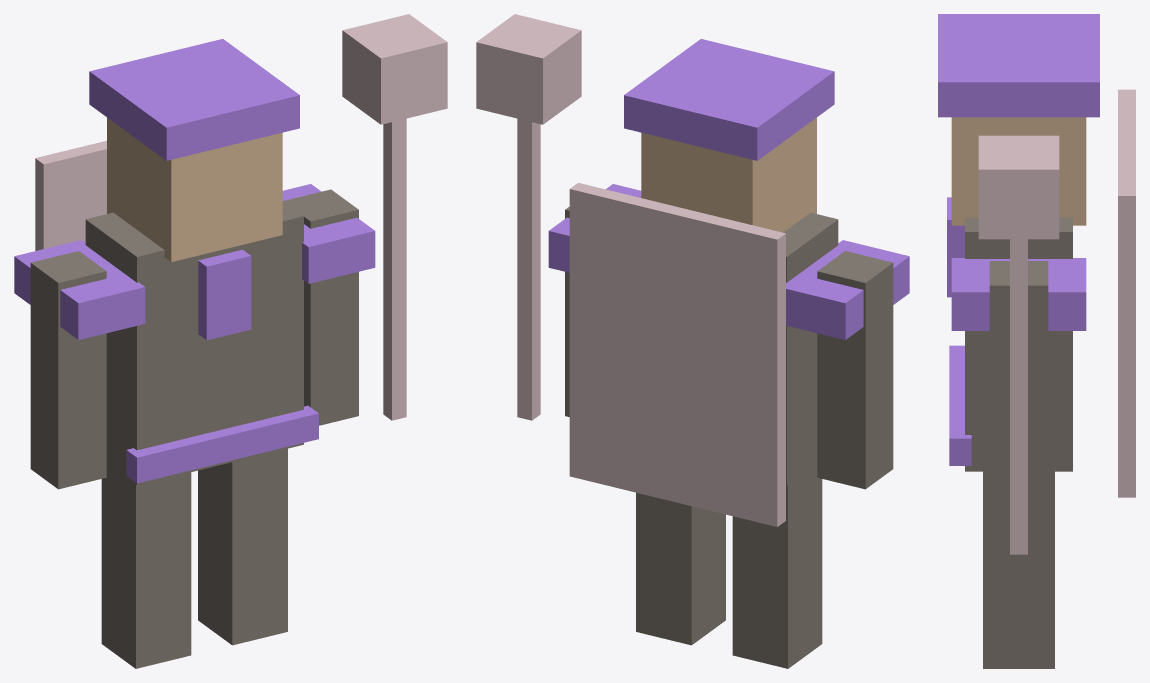
Rendered from 07_vexa_runeclasp_medic_near_saltscar.glb.
3 views of the same model, side by side, from view 1: azimuth 30°, elevation 25°; view 2: azimuth 150°, elevation 25°; view 3: azimuth 270°, elevation 25° (orthographic). The views are drawn at different scales.
Visible parts, largest first — view 1: Vexa Runeclasp, Medic near Saltscar; view 2: Vexa Runeclasp, Medic near Saltscar; view 3: Vexa Runeclasp, Medic near Saltscar.
Boxes of the visible parts, x1,y1,x2,y2 form: Vexa Runeclasp, Medic near Saltscar: [14, 14, 447, 668]; Vexa Runeclasp, Medic near Saltscar: [476, 14, 909, 668]; Vexa Runeclasp, Medic near Saltscar: [938, 14, 1135, 668].
Size of the model in its own units: 1.05 by 1.45 by 0.4481.
